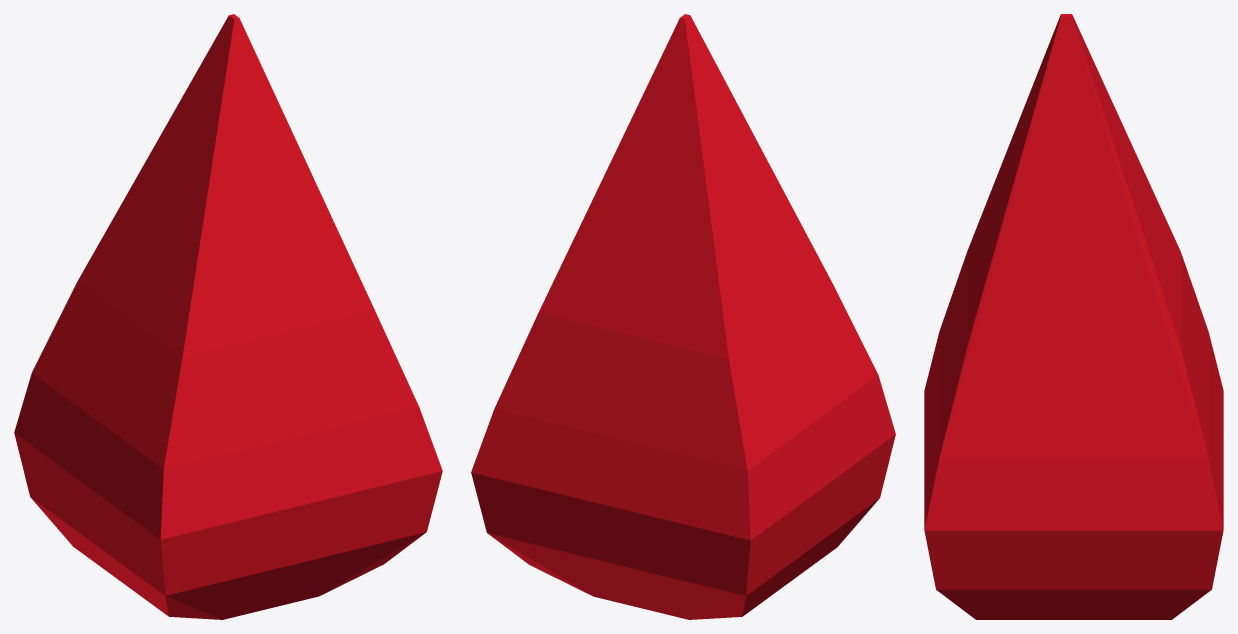
File: blood.fbx
3 renders of one model, left to right at view 1: azimuth 30°, elevation 25°; view 2: azimuth 150°, elevation 25°; view 3: azimuth 270°, elevation 25°, orthographic. The views are drawn at different scales.
Parts seen in each view (by area): view 1: Cube; view 2: Cube; view 3: Cube.
Boxes of the visible parts, bbox=[...] form: Cube: bbox=[14, 14, 442, 619]; Cube: bbox=[471, 14, 895, 619]; Cube: bbox=[924, 14, 1223, 619].
Size of the model in its own units: 170 by 324 by 153.
